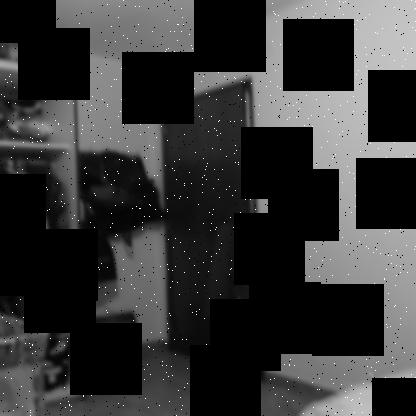Porte: (159, 76, 265, 387)
